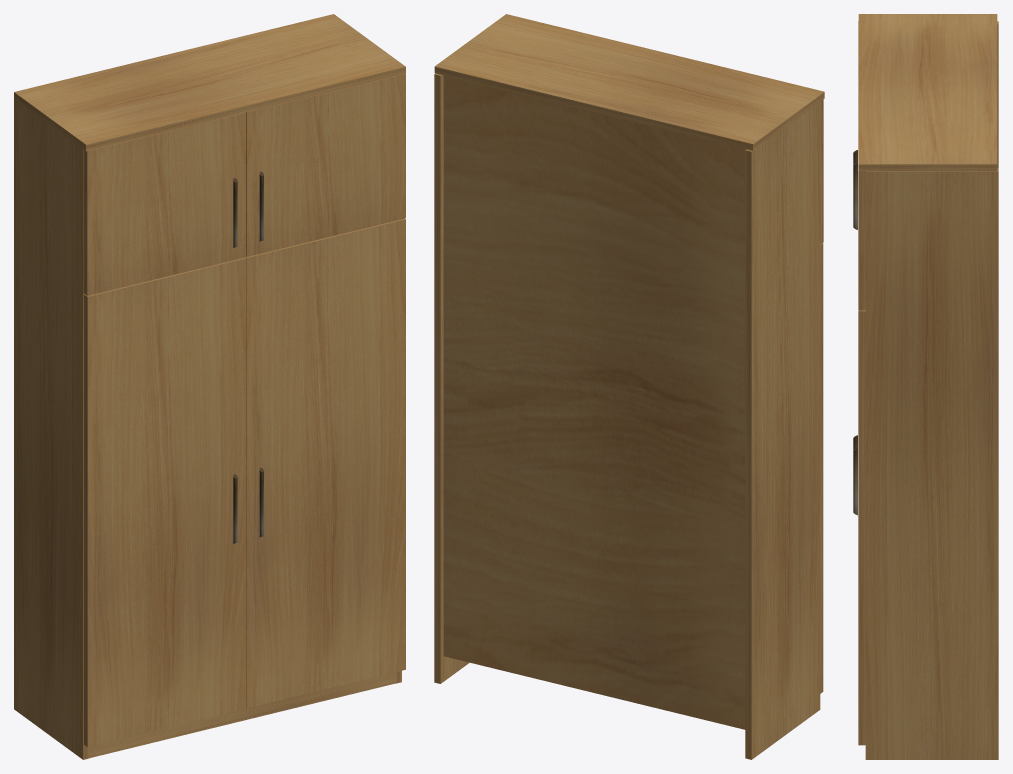
File: Shkaf.fbx
3 views of the same model, side by side, from view 1: azimuth 30°, elevation 25°; view 2: azimuth 150°, elevation 25°; view 3: azimuth 270°, elevation 25° (orthographic). The views are drawn at different scales.
Parts seen in each view (by area): view 1: Shkaf; view 2: Shkaf; view 3: Shkaf.
Boxes of the visible parts, x1=… form: Shkaf: x1=14, y1=14, x2=405, y2=759; Shkaf: x1=434, y1=14, x2=824, y2=759; Shkaf: x1=853, y1=14, x2=998, y2=759.
Bounding box in the file's own units: 1.41 × 2.6 × 0.5763.
